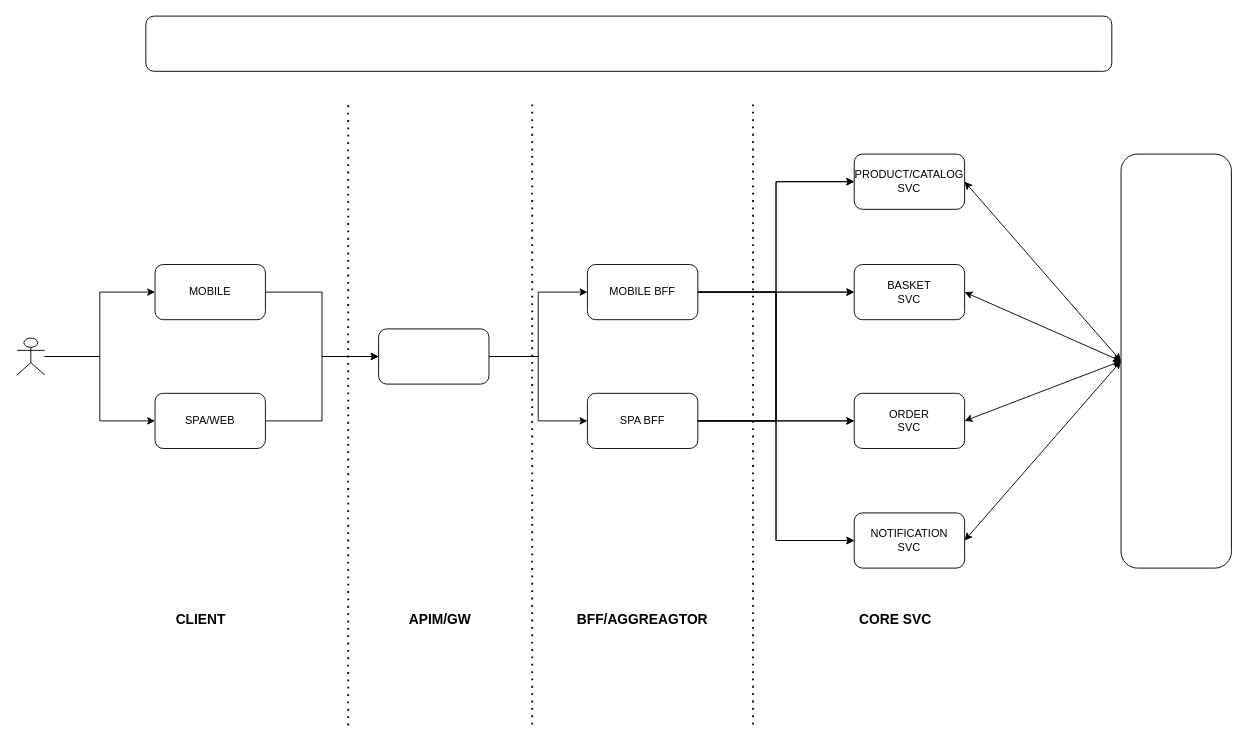
Image size: 1248x743. Some labels were removed from this diagram. The box of each missing label's shape, as (x1, y1, x2, y2) in pixels:
APIM REVERSE PROXY: (378, 328, 489, 384)
EVENT STORE: (1120, 153, 1231, 568)
IDENTITY PROVIDER: (145, 15, 1112, 71)
USER: (16, 337, 45, 375)
